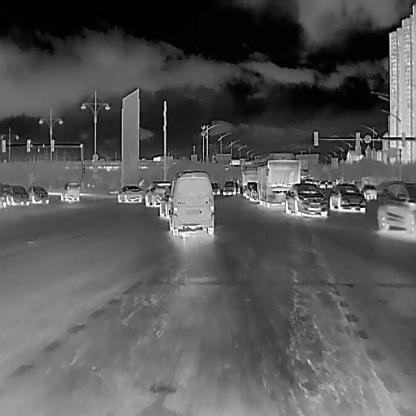car: (168, 170, 214, 234), (257, 159, 298, 206), (377, 182, 415, 232), (284, 183, 327, 215), (328, 184, 366, 209), (143, 178, 171, 206), (116, 185, 142, 203), (6, 184, 28, 205), (159, 183, 172, 216), (28, 183, 49, 203), (59, 182, 79, 202), (245, 180, 258, 201), (361, 183, 376, 199), (223, 179, 236, 194), (208, 180, 219, 194)
